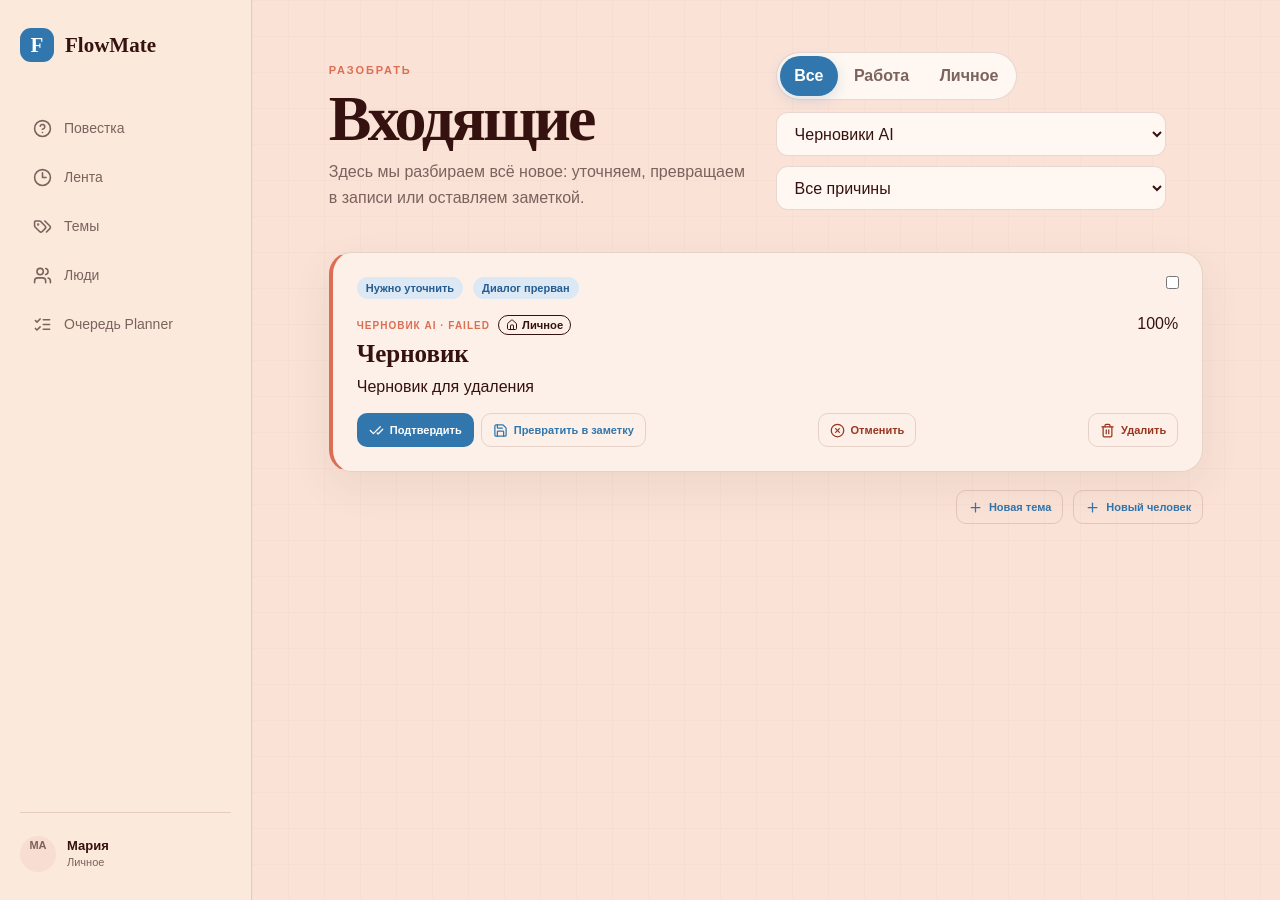
Test: Inbox drafts › permanently deletes a draft only after confirmation and blocks repeat clicks
Click the button "Удалить".
click(1133, 430)  # box top-left (1088, 413), bottom-right (1178, 447)
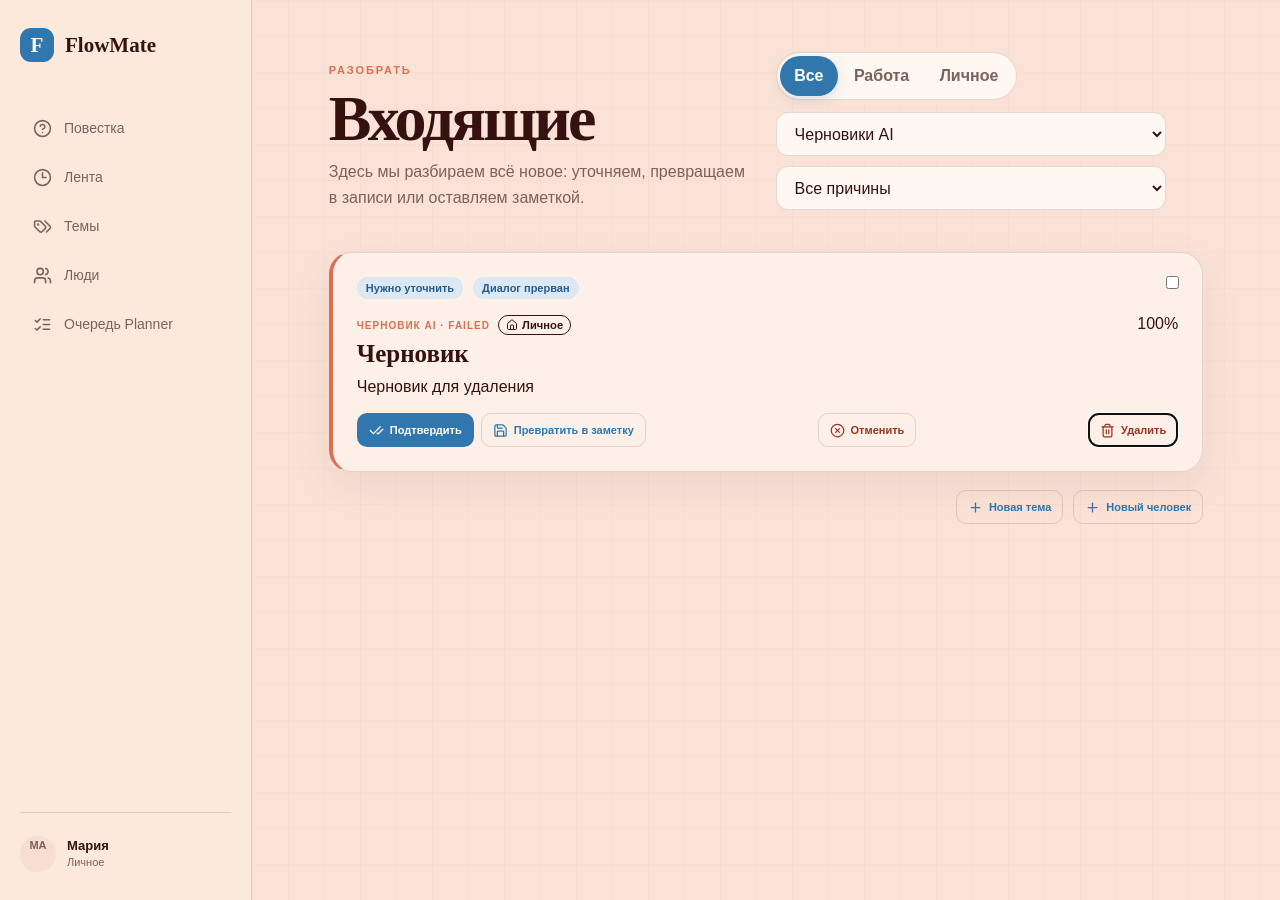
Click the button "Удалить".
click(1133, 430)  # box top-left (1088, 413), bottom-right (1178, 447)
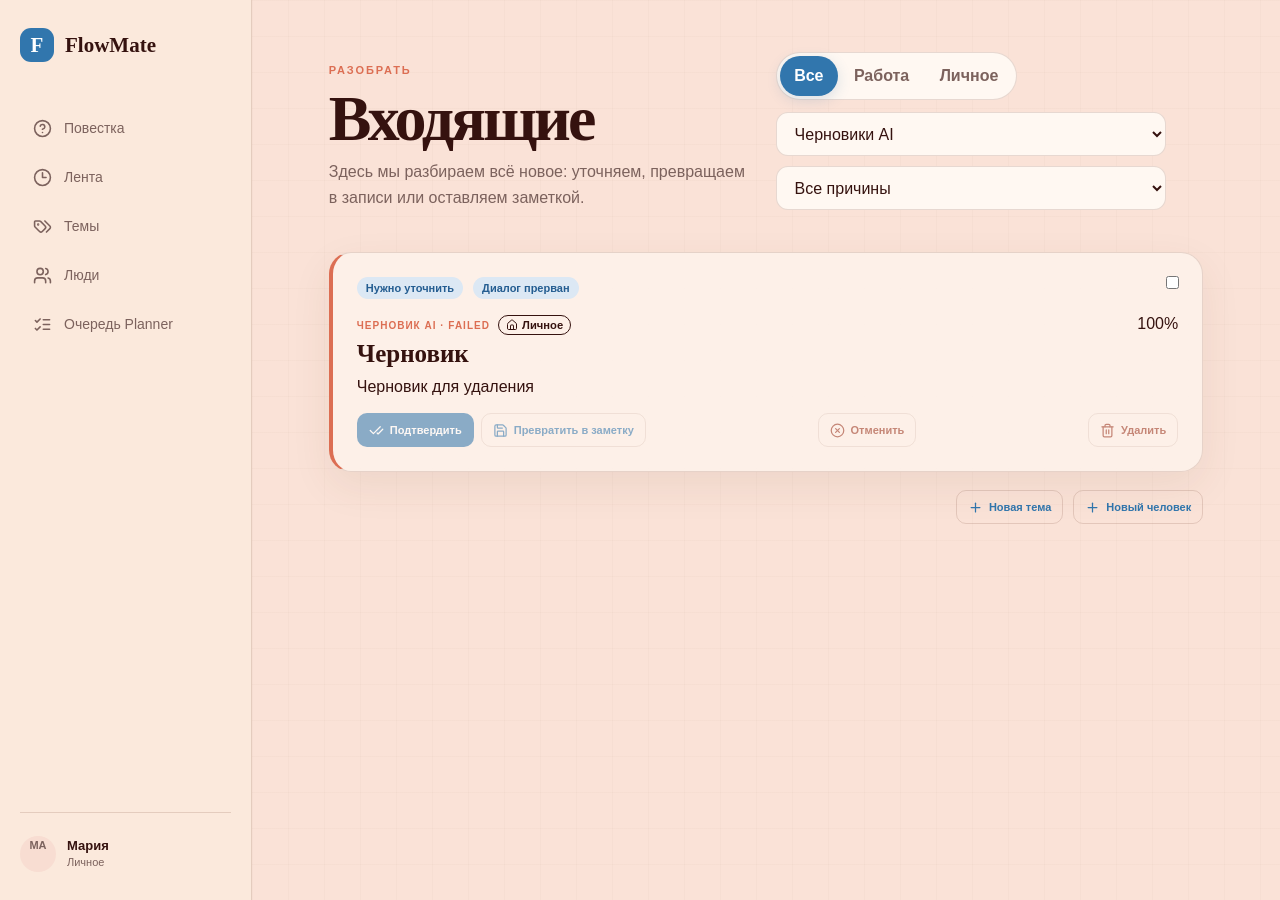
Result: the button "Удалить" is disabled at top-left (1088, 413), bottom-right (1178, 447)
